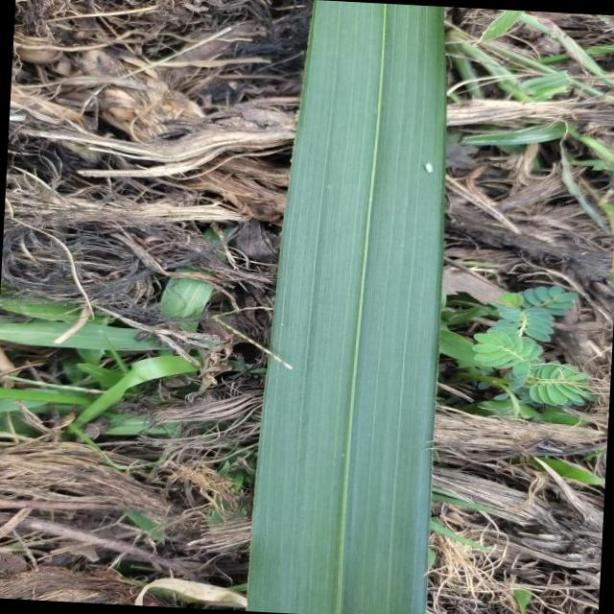Healthy: (251, 0, 451, 614)
